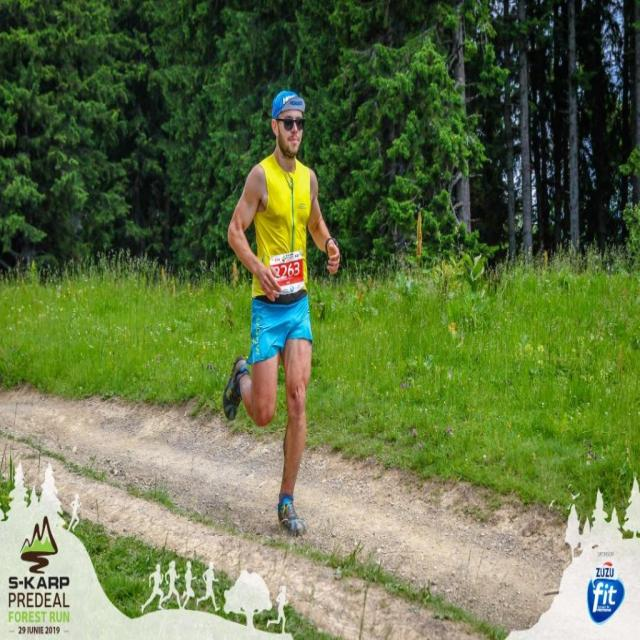running: (218, 88, 342, 534)
